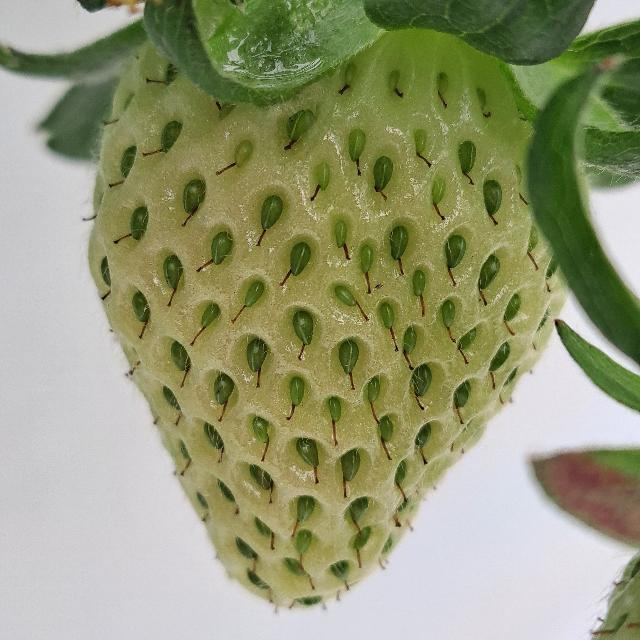Health_25: (87, 42, 569, 608)
